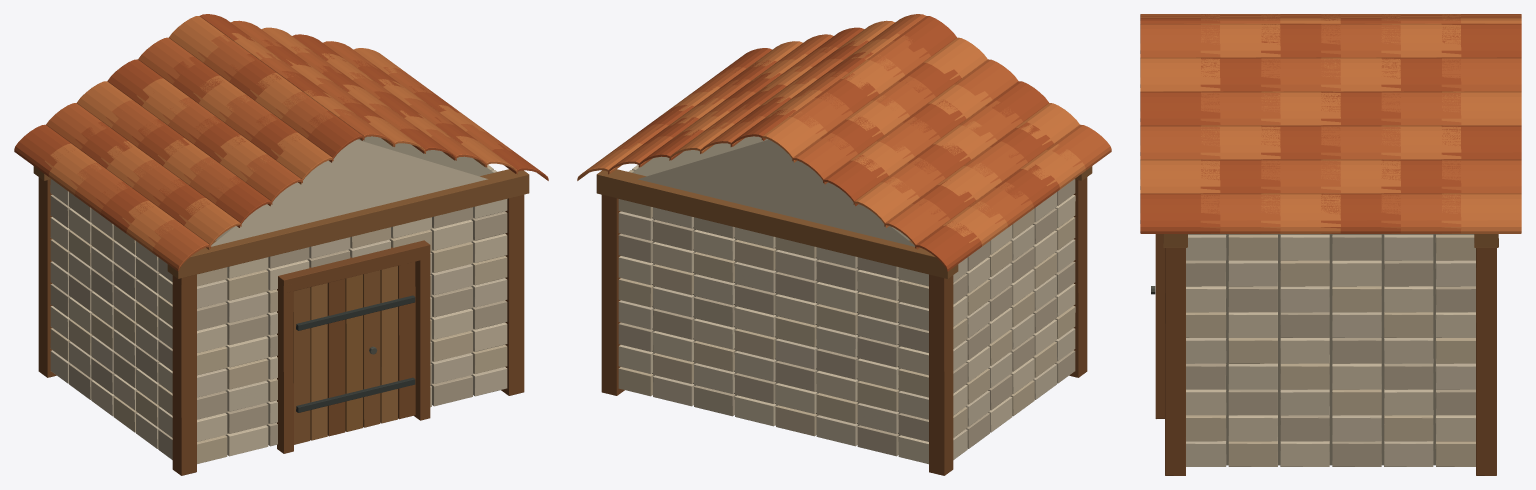
File: vineyard_tool_shed.glb
3 renders of one model, left to right at view 1: azimuth 30°, elevation 25°; view 2: azimuth 150°, elevation 25°; view 3: azimuth 270°, elevation 25°, orthographic. The views are drawn at different scales.
Visible parts, largest first — view 1: vineyard_tool_shed; view 2: vineyard_tool_shed; view 3: vineyard_tool_shed.
Part boxes in pixels (bbox=[...]): vineyard_tool_shed: bbox=[14, 14, 548, 475]; vineyard_tool_shed: bbox=[577, 14, 1111, 475]; vineyard_tool_shed: bbox=[1140, 14, 1521, 475].
Bounding box in the file's own units: 5.43 × 4.3 × 4.17.
